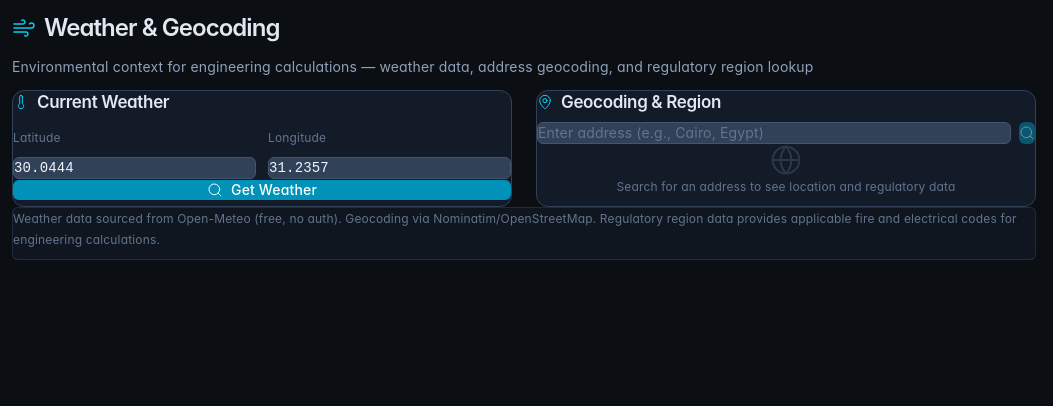
Test: ContextPage › fetches geocode on address search
In the field with placeholder "Enter address (e.g., Cairo, Egypt)": (774, 133) [537,122,1011,144], type "Cairo, Egypt"
Then press Enter
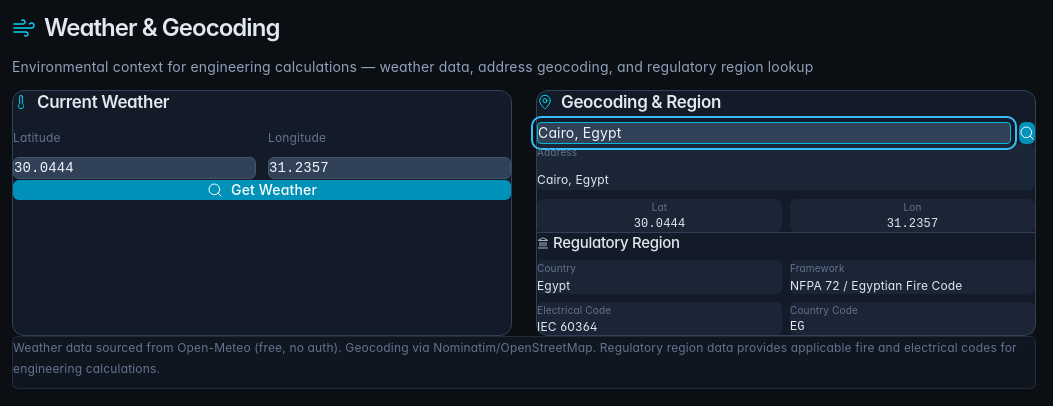
Expected: the text "Cairo, Egypt" is shown, [537,172,609,187]
